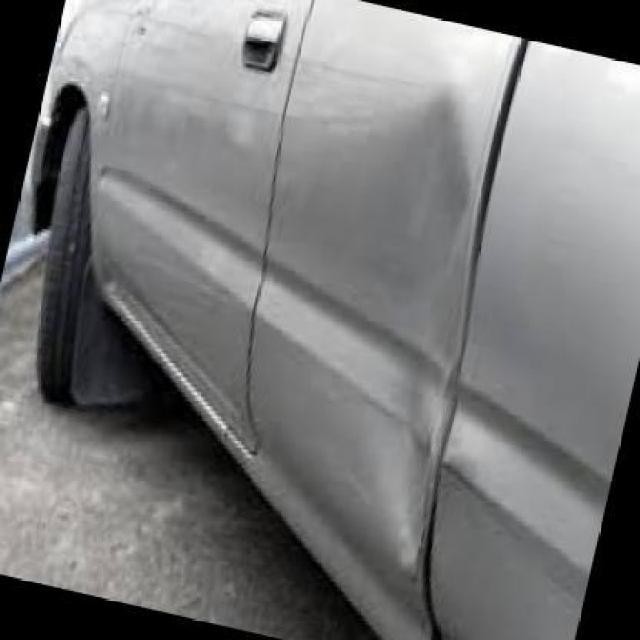dent: (309, 95, 469, 311)
